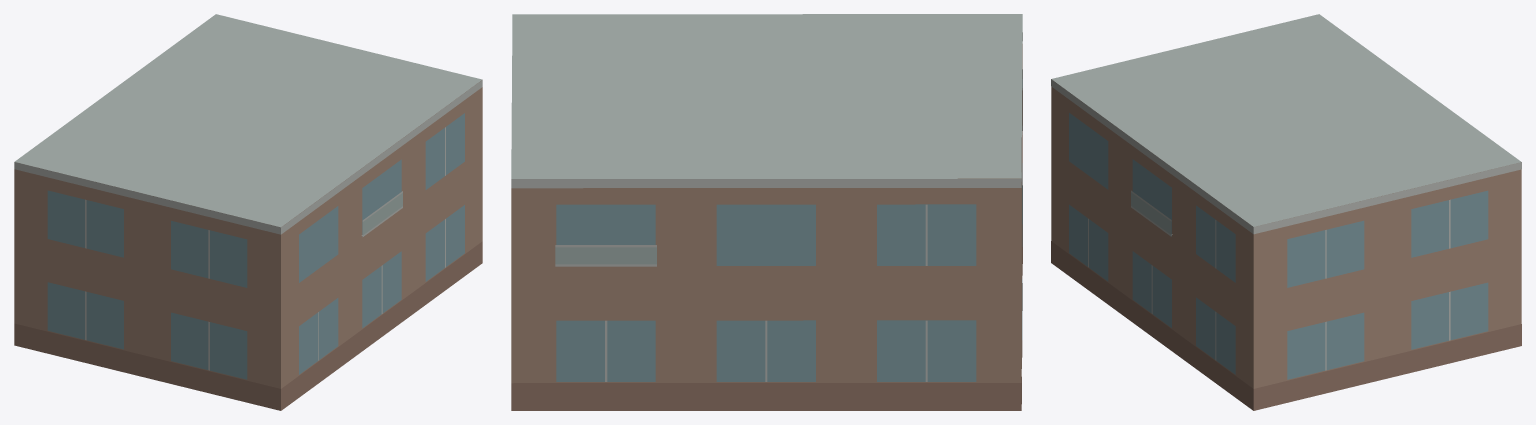
Rendered from survey-upis-32696175.glb.
3 renders of one model, left to right at view 1: azimuth 30°, elevation 25°; view 2: azimuth 150°, elevation 25°; view 3: azimuth 270°, elevation 25°, orthographic. The views are drawn at different scales.
Visible parts, largest first — view 1: survey-upis-32696175.tmp; view 2: survey-upis-32696175.tmp; view 3: survey-upis-32696175.tmp.
Boxes of the visible parts, x1=… form: survey-upis-32696175.tmp: x1=14, y1=14, x2=482, y2=410; survey-upis-32696175.tmp: x1=511, y1=14, x2=1022, y2=410; survey-upis-32696175.tmp: x1=1051, y1=14, x2=1521, y2=410.
Size of the model in its own units: 15.16 by 6.1 by 14.16.
